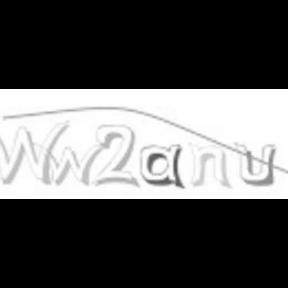2: (94, 123, 140, 187)
W: (0, 121, 70, 185)
a: (138, 144, 184, 188)
n: (187, 140, 231, 188)
u: (234, 142, 278, 186)
w: (34, 142, 104, 186)
